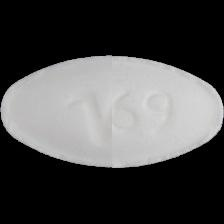61919-442: (0, 0, 224, 224)
